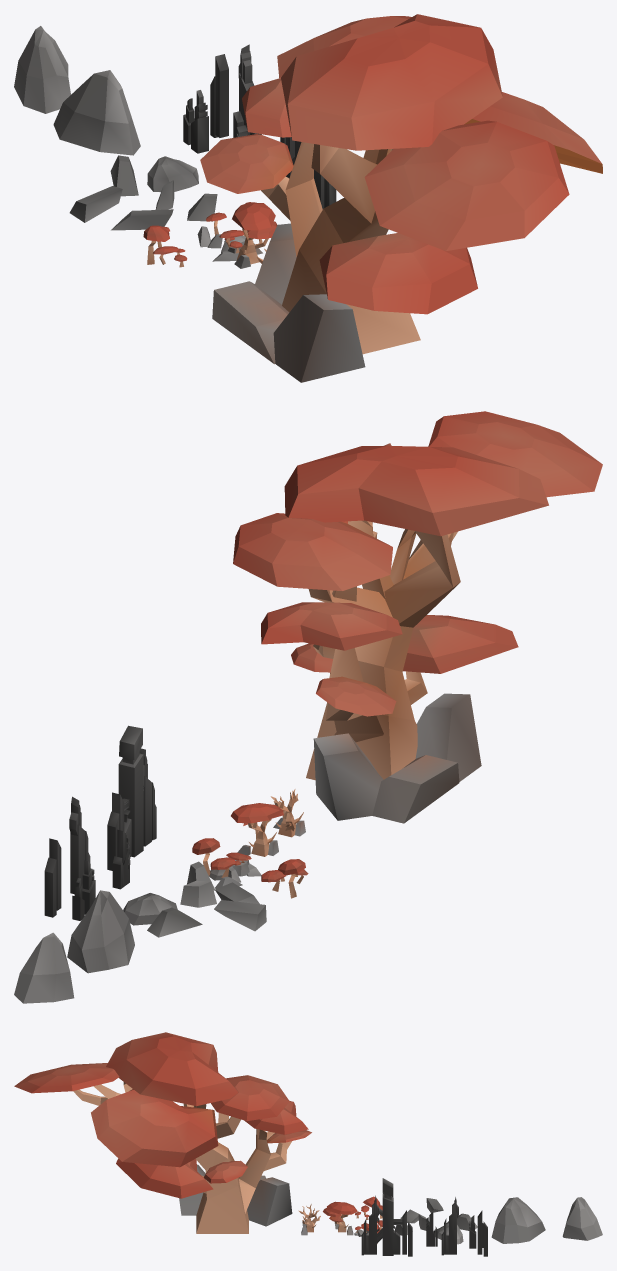
The model's file is Planet.fbx_Collection.fbx.
The picture shows the model from 3 angles, top to bottom: view 1: azimuth 30°, elevation 25°; view 2: azimuth 150°, elevation 25°; view 3: azimuth 270°, elevation 25°; orthographic projection. The views are drawn at different scales.
Visible parts, largest first — view 1: ArvoreAncia, PedraGrande2, PedraGrande1, AvoreViva, Predio3, PedraRedonda, Cogumelos, Pedra4, Pedra2, Predio2, Predios, Pedra5 (+3 smaller); view 2: ArvoreAncia, Predios, PedraGrande2, PedraGrande1, Cogumelos, AvoreViva, Predio5, Predio3, PedraRedonda, Pedra4, Pedra5, Predio4 (+2 smaller); view 3: ArvoreAncia, Predios, PedraGrande2, PedraGrande1, AvoreViva, Predio5, Predio3, ArvoreMorta, Predio4.
Boxes of the visible parts, x1,y1,x2,y2 form: ArvoreAncia: (200,14,602,382); PedraGrande2: (53,70,140,155); PedraGrande1: (14,26,70,113); AvoreViva: (232,202,277,268); Predio3: (210,54,228,137); PedraRedonda: (147,156,198,192); Cogumelos: (197,202,256,261); Pedra4: (69,186,122,222); Pedra2: (111,209,173,230); Predio2: (191,90,208,153); Predios: (280,137,336,209); Pedra5: (110,155,138,196); ArvoreAncia: (233,411,602,823); Predios: (107,725,156,870); PedraGrande2: (67,890,134,973); PedraGrande1: (14,932,74,1003); Cogumelos: (192,838,261,888); AvoreViva: (231,803,283,856); Predio5: (69,796,90,894); Predio3: (44,838,61,917); PedraRedonda: (123,893,177,925); Pedra4: (214,900,266,931); Pedra5: (147,908,202,937); Predio4: (112,829,130,889); ArvoreAncia: (14,1032,311,1233); Predios: (361,1178,412,1256); PedraGrande2: (491,1197,545,1243); PedraGrande1: (562,1197,602,1240); AvoreViva: (323,1201,357,1235); Predio5: (441,1197,458,1255); Predio3: (477,1210,487,1256); ArvoreMorta: (298,1204,320,1235); Predio4: (426,1211,437,1246).
Size of the model in its own units: 6635 by 7580 by 21780.
